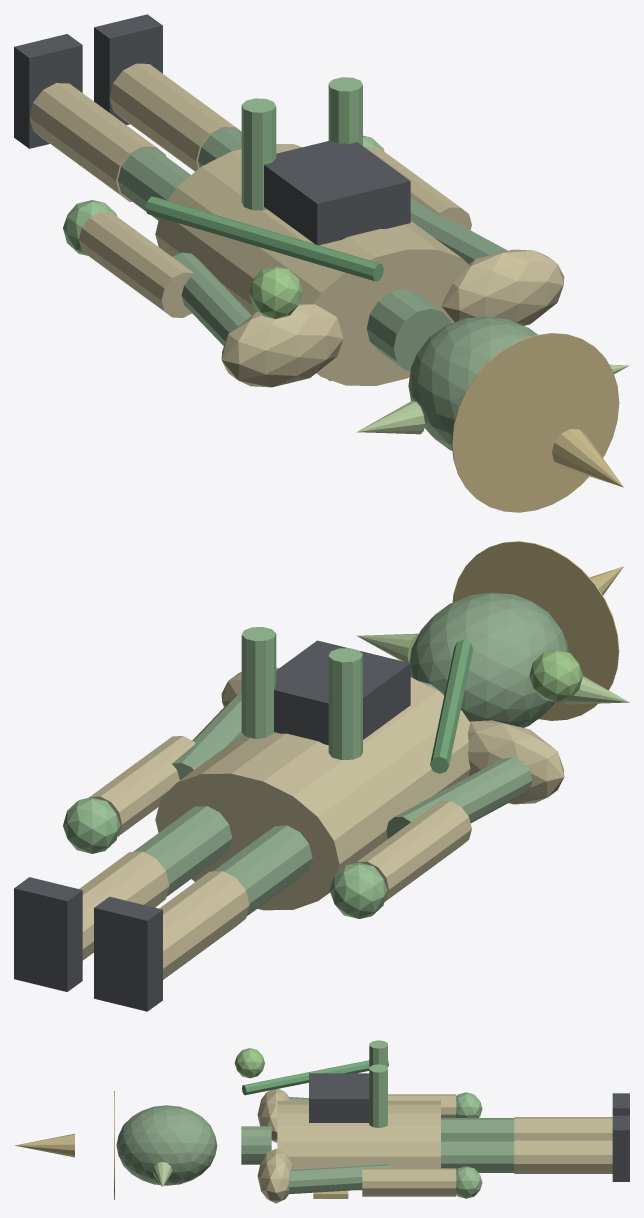
The model's file is SWN-046_ilyra_highroot.glb.
The picture shows the model from 3 angles, top to bottom: view 1: azimuth 30°, elevation 25°; view 2: azimuth 150°, elevation 25°; view 3: azimuth 270°, elevation 25°; orthographic projection. The views are drawn at different scales.
Parts seen in each view (by area): view 1: body_spine, rank_halo_ring, back_thruster_pack, head, shoulder_plate_-1, shoulder_plate_1, greave_-1, greave_1, forearm_gauntlet_-1, vine_back_arc, boot_-1, boot_1 (+12 smaller); view 2: body_spine, head, rank_halo_ring, back_thruster_pack, boot_-1, boot_1, greave_-1, forearm_gauntlet_-1, shoulder_plate_-1, thigh_-1, thigh_1, forearm_gauntlet_1 (+11 smaller); view 3: body_spine, head, greave_1, back_thruster_pack, forearm_gauntlet_1, thigh_1, greave_-1, upper_arm_1, thigh_-1, shoulder_plate_1, vine_back_arc, boot_1 (+12 smaller).
Boxes of the visible parts, box(x1,y1,x2,y2) form: body_spine: box(155, 144, 469, 385); rank_halo_ring: box(451, 333, 619, 512); back_thruster_pack: box(264, 140, 410, 245); head: box(408, 316, 537, 450); shoulder_plate_-1: box(221, 303, 343, 387); shoulder_plate_1: box(442, 249, 564, 325); greave_-1: box(29, 83, 166, 201); greave_1: box(109, 63, 241, 171); forearm_gauntlet_-1: box(79, 212, 195, 317); vine_back_arc: box(145, 196, 383, 281); boot_-1: box(14, 34, 82, 148); boot_1: box(94, 14, 162, 125); body_spine: box(155, 677, 470, 910); head: box(409, 592, 568, 727); rank_halo_ring: box(452, 541, 619, 720); back_thruster_pack: box(274, 640, 410, 745); boot_-1: box(94, 896, 162, 1011); boot_1: box(14, 877, 82, 991); greave_-1: box(159, 871, 249, 979); forearm_gauntlet_-1: box(356, 801, 471, 901); shoulder_plate_-1: box(467, 720, 564, 804); thigh_-1: box(213, 825, 312, 915); thigh_1: box(133, 806, 232, 896); forearm_gauntlet_1: box(89, 736, 195, 836); body_spine: box(277, 1100, 440, 1190); head: box(116, 1105, 217, 1185); greave_1: box(514, 1139, 612, 1173); back_thruster_pack: box(309, 1073, 369, 1122); forearm_gauntlet_1: box(362, 1168, 456, 1196); thigh_1: box(441, 1140, 514, 1172); greave_-1: box(514, 1117, 612, 1139); upper_arm_1: box(288, 1164, 390, 1193); thigh_-1: box(441, 1118, 514, 1140); shoulder_plate_1: box(257, 1148, 293, 1203); vine_back_arc: box(242, 1060, 388, 1095); boot_1: box(612, 1115, 629, 1181).
Size of the model in its own units: 1.03 by 0.7 by 2.82.
